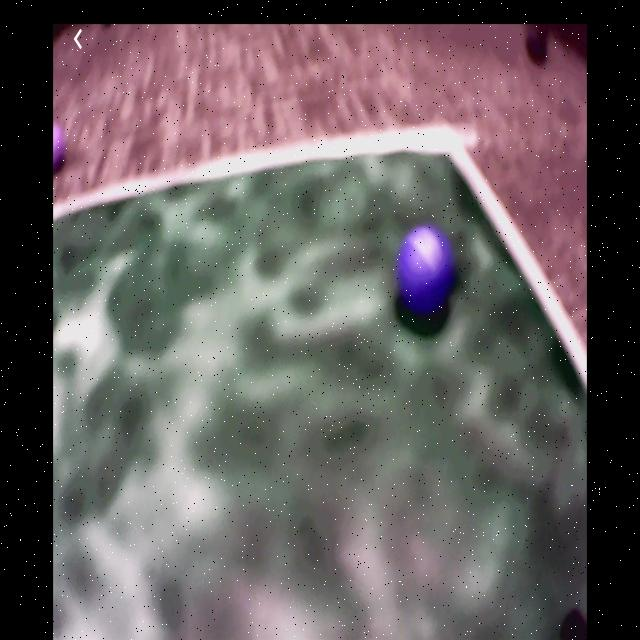ball: (398, 226, 453, 314), (55, 122, 69, 173)
